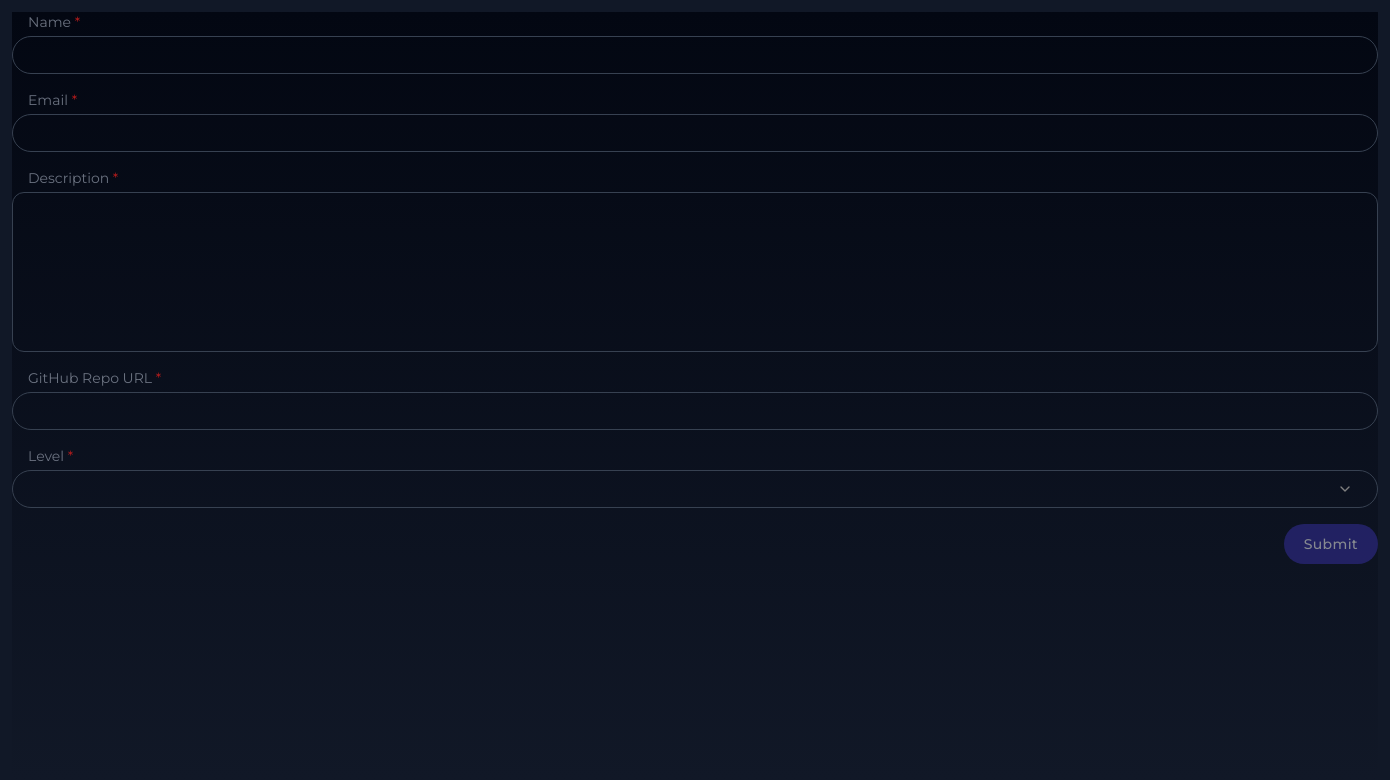
Test: Candidates level fetching › Failed candidates level fetching
Click the button with test id "select-button" at [1345, 489], box [12,470,1378,508]
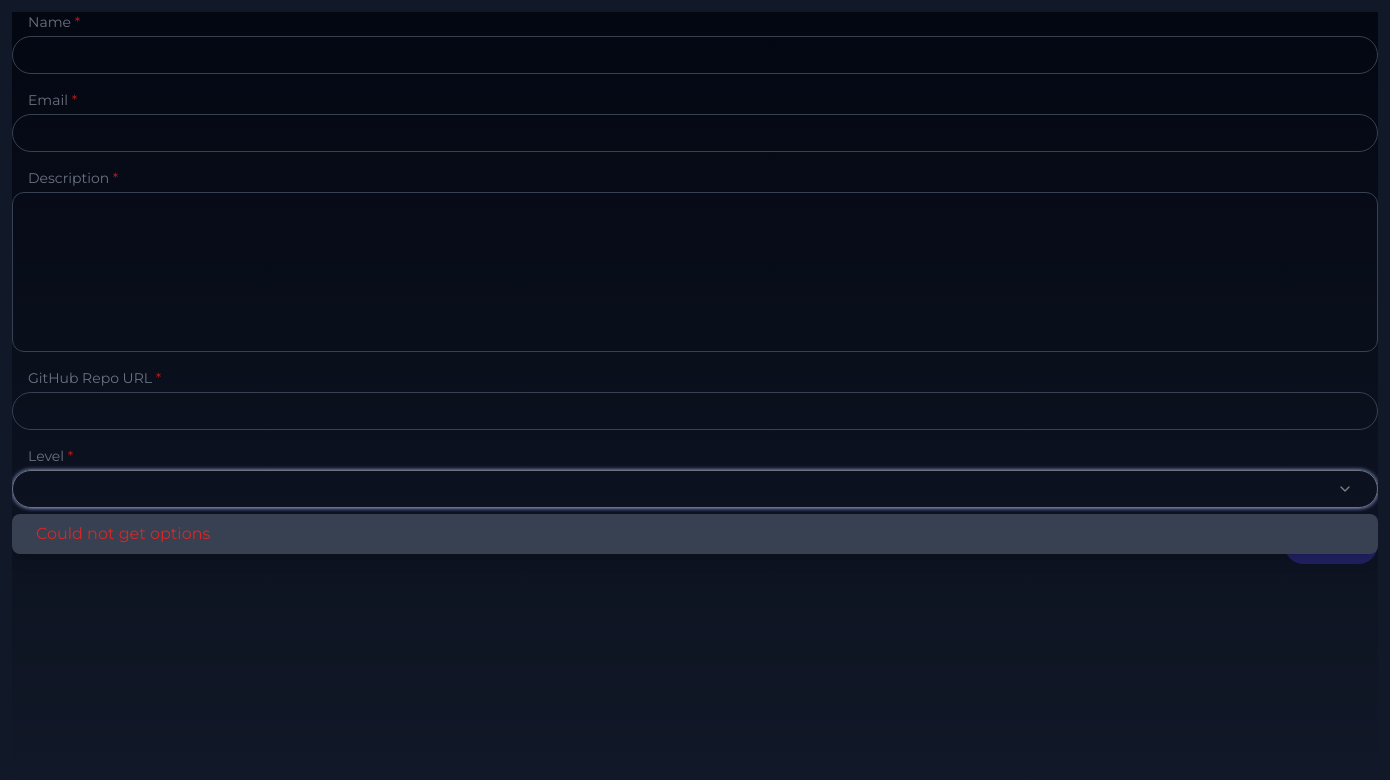
Now the list item "Could not get options" is shown, box [36,524,210,543]
